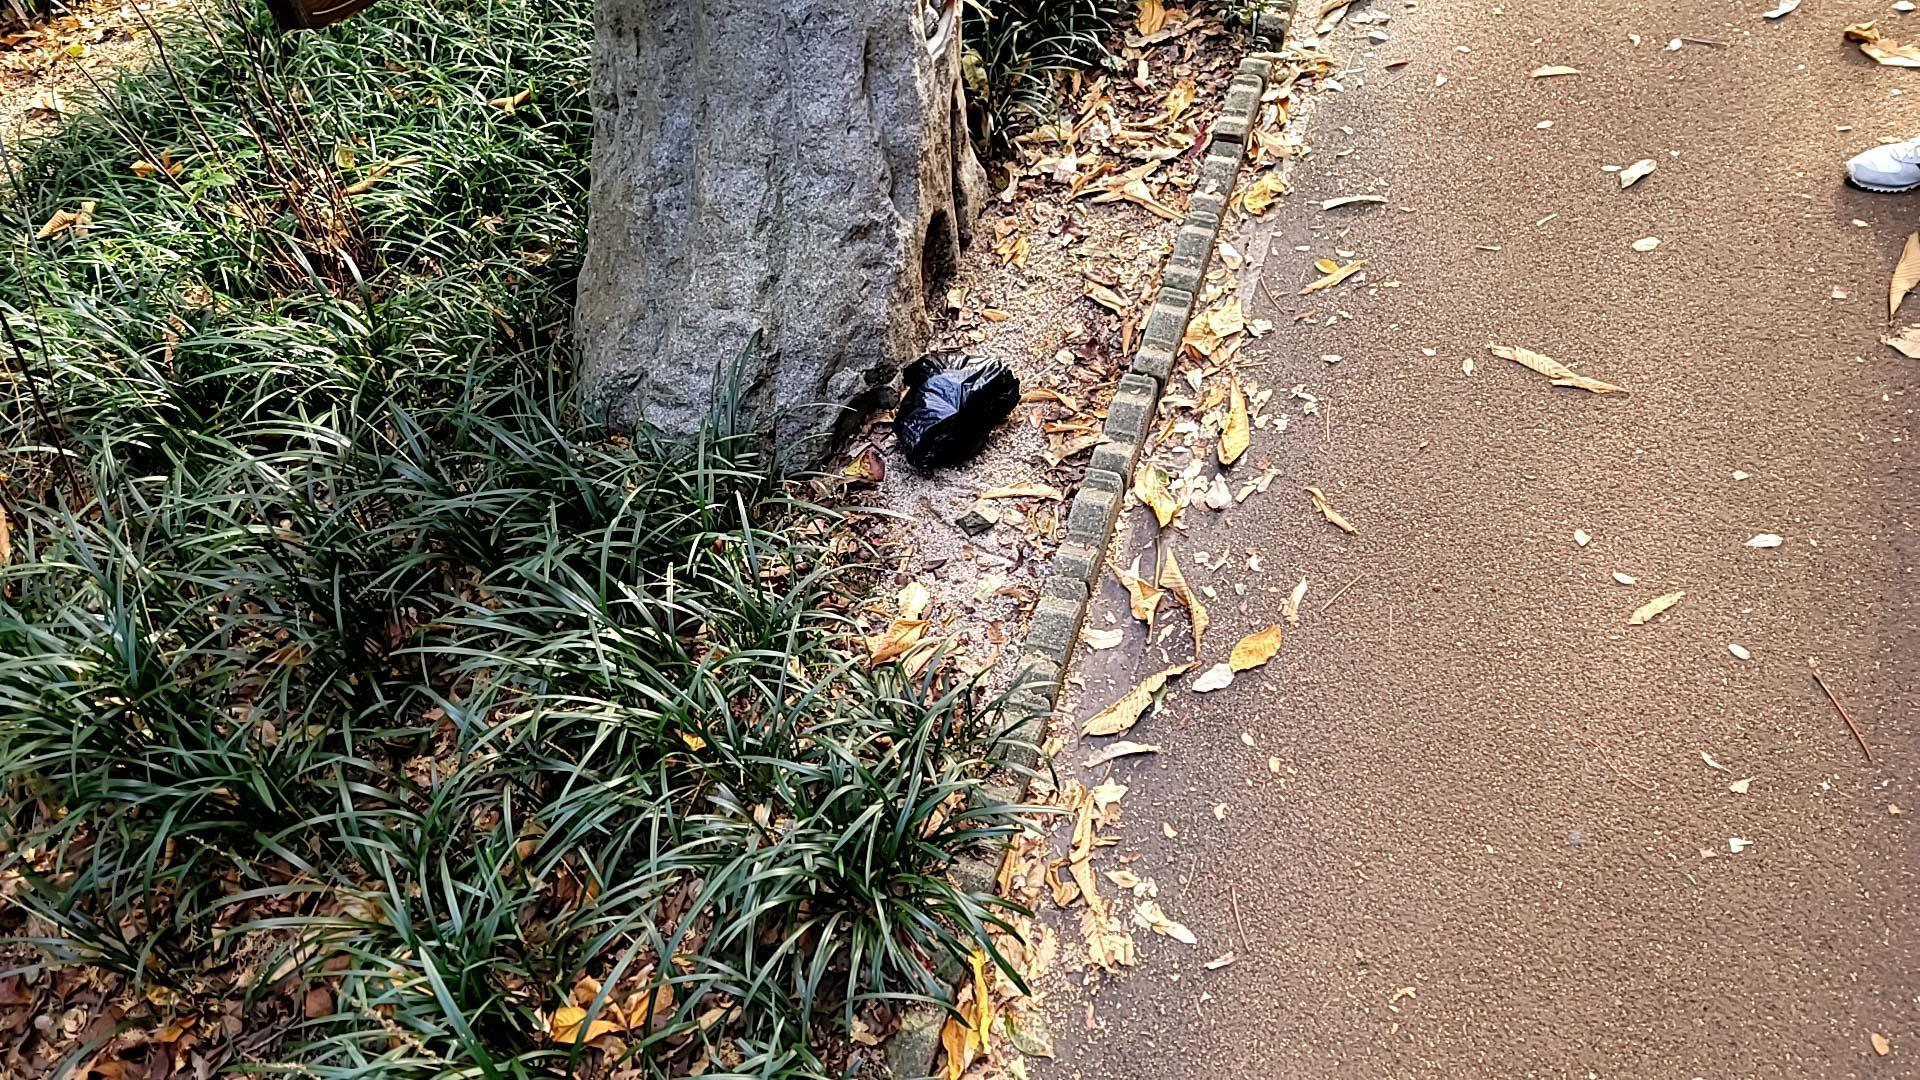white_bag: (887, 348, 1026, 469)
